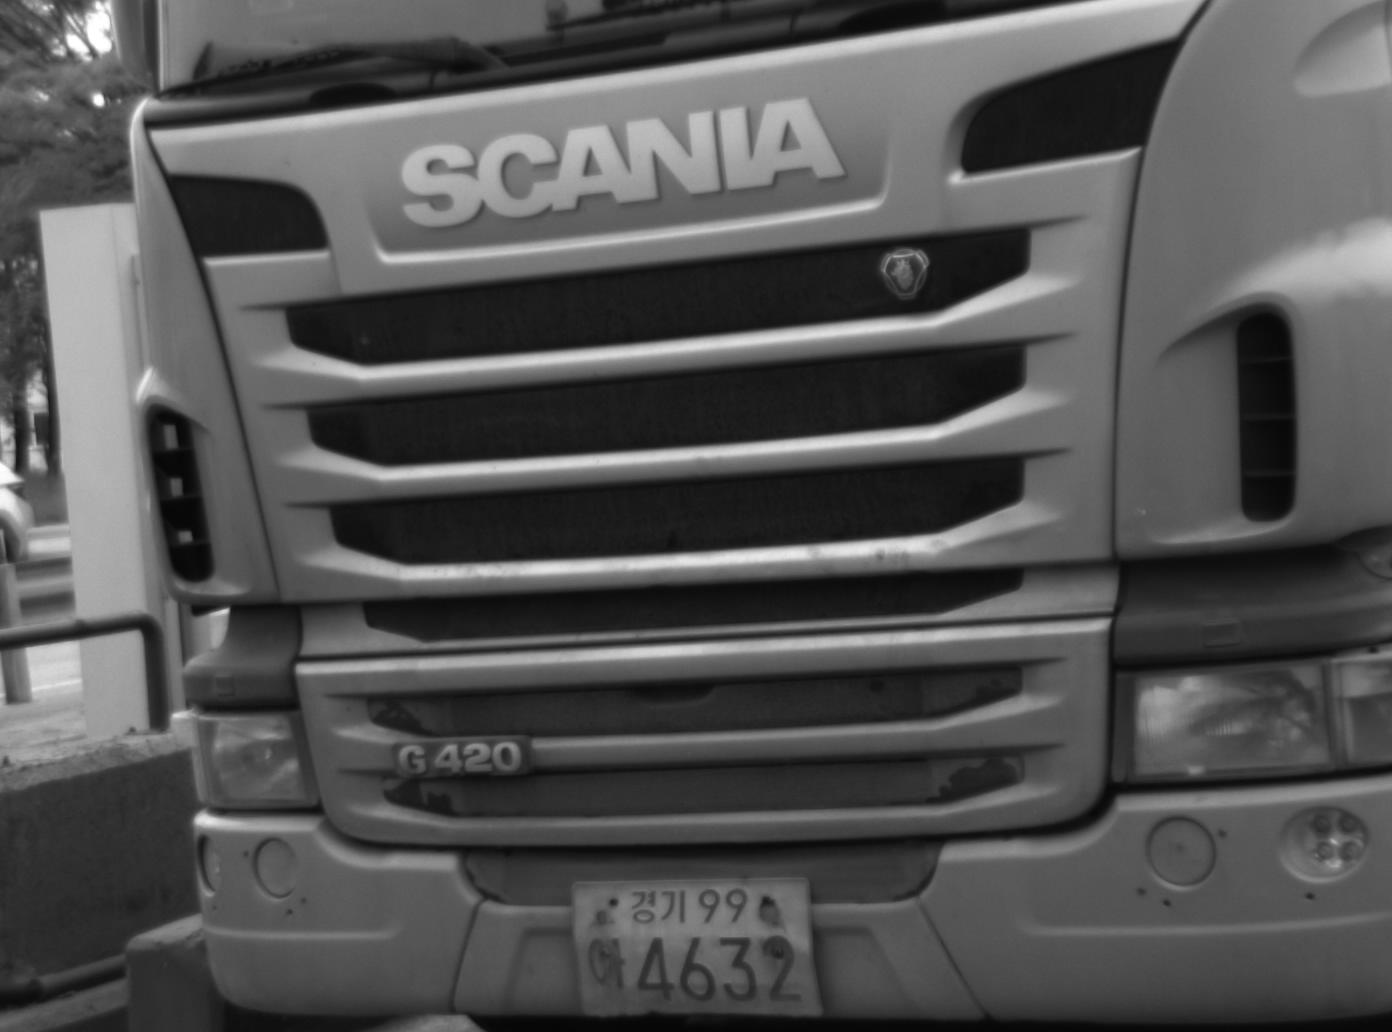car: (99, 1, 1392, 1032)
plate: (570, 881, 823, 1019)
